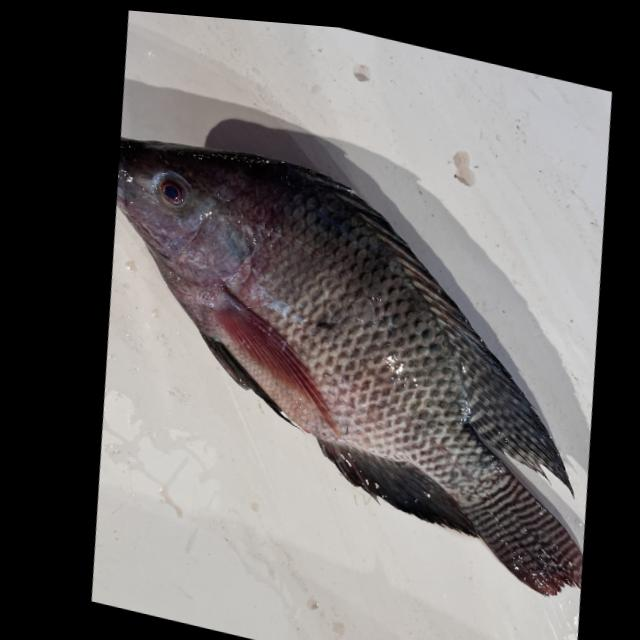Tilapia: (61, 116, 639, 610)
